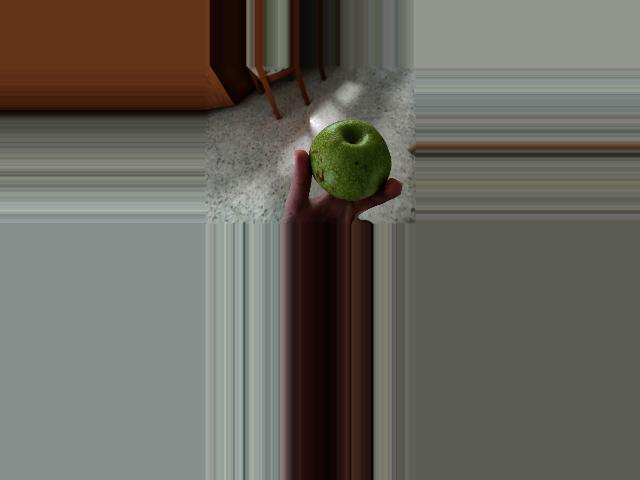apple: (308, 118, 394, 202)
